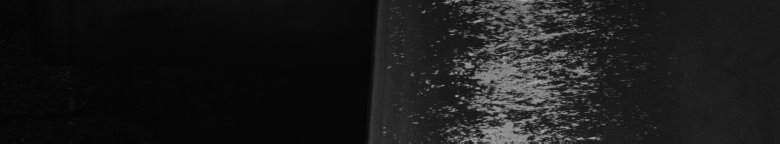kb: (464, 4, 568, 136)
